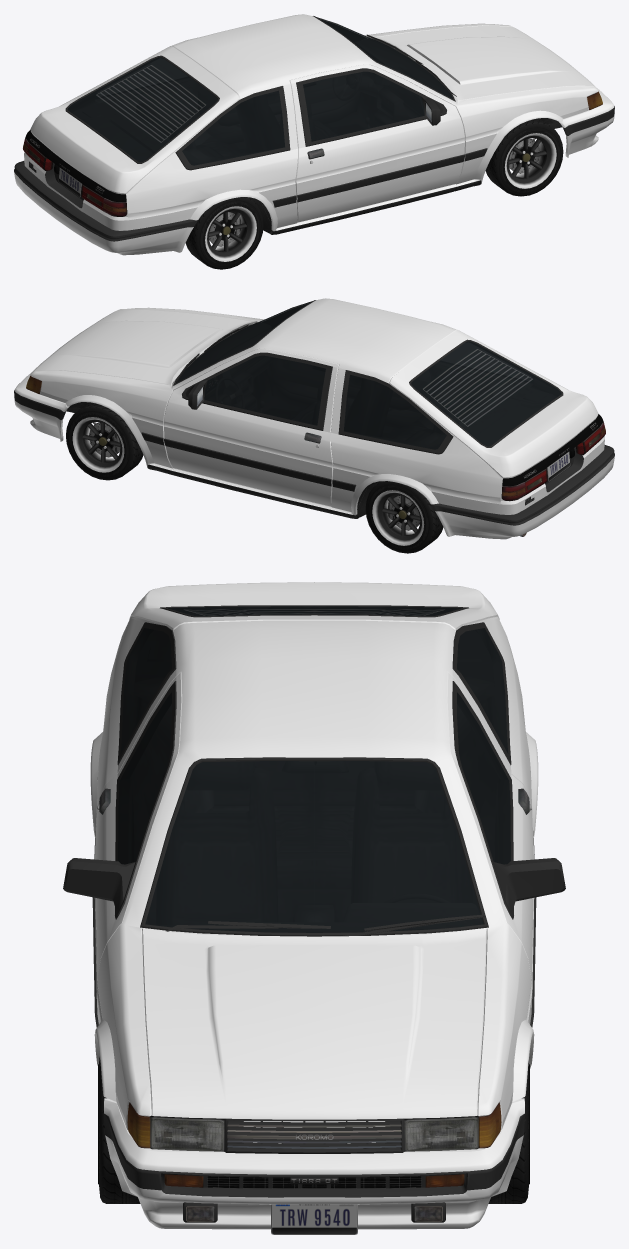
File: tiara_gt_83_tuned.glb
3 views of the same model, one above another, from view 1: azimuth 30°, elevation 25°; view 2: azimuth 150°, elevation 25°; view 3: azimuth 270°, elevation 25° (orthographic). The views are drawn at different scales.
Visible parts, largest first — view 1: TiaraGT83_Body_TiaraGT83_Bodymat_0, TiaraGT83_Interior_UCB_Interiors_2_0, TiaraGT83_Hood_TiaraGT83_Bodymat_0, TiaraGT83_Bottom_UCB_BOTTOM_0, TiaraGT83_Trunkdoor_Glass_UCB_Lights_and_Glass_Transperent_0, TiaraGT83_Trunkdoor_TiaraGT83_Bodymat_0, TiaraGT83_Glass_UCB_Lights_and_Glass_Transperent_0, TiaraGT83_Glass_Passenger_UCB_Lights_and_Glass_Transperent_0, TiaraGT83_WheelTuner_FR_RB1c_Tire_1k_0, TiaraGT83_WheelTuner_RR_RB1c_Tire_1k_0, TiaraGT83_Bumper_rear_TrimB_Shell_TiaraGT83_Bodymat_0, TiaraGT83_Bumper_rear_TrimB_UCB_BOTTOM_0 (+6 smaller); view 2: TiaraGT83_Body_TiaraGT83_Bodymat_0, TiaraGT83_Interior_UCB_Interiors_2_0, TiaraGT83_Hood_TiaraGT83_Bodymat_0, TiaraGT83_Bottom_UCB_BOTTOM_0, TiaraGT83_Trunkdoor_Glass_UCB_Lights_and_Glass_Transperent_0, TiaraGT83_Trunkdoor_TiaraGT83_Bodymat_0, TiaraGT83_Glass_UCB_Lights_and_Glass_Transperent_0, TiaraGT83_Glass_Driver_UCB_Lights_and_Glass_Transperent_0, TiaraGT83_WheelTuner_FL_RB1c_Tire_1k_0, TiaraGT83_WheelTuner_RL_RB1c_Tire_1k_0, TiaraGT83_Bumper_rear_TrimB_Shell_TiaraGT83_Bodymat_0, TiaraGT83_Bumper_rear_TrimB_UCB_BOTTOM_0 (+6 smaller); view 3: TiaraGT83_Body_TiaraGT83_Bodymat_0, TiaraGT83_Interior_UCB_Interiors_2_0, TiaraGT83_Hood_TiaraGT83_Bodymat_0, TiaraGT83_Windshield_UCB_Lights_and_Glass_Transperent_0, TiaraGT83_Bottom_UCB_BOTTOM_0, TiaraGT83_Bumper_FrontB_TiaraGT83_Bodymat_0, TiaraGT83_Trunkdoor_TiaraGT83_Bodymat_0, TiaraGT83_Bumper_FrontB_inner_UCB_BOTTOM_0, TiaraGT83_Glass_UCB_Lights_and_Glass_Transperent_0, TiaraGT83_Headlight_Glass_UCB_Lights_and_Glass_Transperent_0, TiaraGT83_Glass_Driver_UCB_Lights_and_Glass_Transperent_0, TiaraGT83_Glass_Passenger_UCB_Lights_and_Glass_Transperent_0 (+8 smaller).
Part boxes in pixels (<box>): TiaraGT83_Body_TiaraGT83_Bodymat_0: <box>24,14,598,231</box>; TiaraGT83_Interior_UCB_Interiors_2_0: <box>68,20,452,164</box>; TiaraGT83_Hood_TiaraGT83_Bodymat_0: <box>375,25,595,100</box>; TiaraGT83_Bottom_UCB_BOTTOM_0: <box>25,16,562,234</box>; TiaraGT83_Trunkdoor_Glass_UCB_Lights_and_Glass_Transperent_0: <box>67,57,217,162</box>; TiaraGT83_Trunkdoor_TiaraGT83_Bodymat_0: <box>30,46,239,194</box>; TiaraGT83_Glass_UCB_Lights_and_Glass_Transperent_0: <box>95,58,284,165</box>; TiaraGT83_Glass_Passenger_UCB_Lights_and_Glass_Transperent_0: <box>303,71,424,141</box>; TiaraGT83_WheelTuner_FR_RB1c_Tire_1k_0: <box>485,118,563,196</box>; TiaraGT83_WheelTuner_RR_RB1c_Tire_1k_0: <box>185,197,263,269</box>; TiaraGT83_Bumper_rear_TrimB_Shell_TiaraGT83_Bodymat_0: <box>14,172,193,255</box>; TiaraGT83_Bumper_rear_TrimB_UCB_BOTTOM_0: <box>14,161,197,241</box>; TiaraGT83_Body_TiaraGT83_Bodymat_0: <box>30,298,604,515</box>; TiaraGT83_Interior_UCB_Interiors_2_0: <box>176,304,560,448</box>; TiaraGT83_Hood_TiaraGT83_Bodymat_0: <box>33,309,256,384</box>; TiaraGT83_Bottom_UCB_BOTTOM_0: <box>66,300,603,536</box>; TiaraGT83_Trunkdoor_Glass_UCB_Lights_and_Glass_Transperent_0: <box>411,341,561,446</box>; TiaraGT83_Trunkdoor_TiaraGT83_Bodymat_0: <box>389,330,598,478</box>; TiaraGT83_Glass_UCB_Lights_and_Glass_Transperent_0: <box>344,343,533,449</box>; TiaraGT83_Glass_Driver_UCB_Lights_and_Glass_Transperent_0: <box>204,355,325,425</box>; TiaraGT83_WheelTuner_FL_RB1c_Tire_1k_0: <box>66,402,143,480</box>; TiaraGT83_WheelTuner_RL_RB1c_Tire_1k_0: <box>365,481,443,553</box>; TiaraGT83_Bumper_rear_TrimB_Shell_TiaraGT83_Bodymat_0: <box>435,456,614,539</box>; TiaraGT83_Bumper_rear_TrimB_UCB_BOTTOM_0: <box>431,445,614,525</box>; TiaraGT83_Body_TiaraGT83_Bodymat_0: <box>90,616,538,1143</box>; TiaraGT83_Interior_UCB_Interiors_2_0: <box>118,612,510,932</box>; TiaraGT83_Hood_TiaraGT83_Bodymat_0: <box>142,928,486,1119</box>; TiaraGT83_Windshield_UCB_Lights_and_Glass_Transperent_0: <box>145,761,483,932</box>; TiaraGT83_Bottom_UCB_BOTTOM_0: <box>63,622,565,1153</box>; TiaraGT83_Bumper_FrontB_TiaraGT83_Bodymat_0: <box>104,1098,524,1229</box>; TiaraGT83_Trunkdoor_TiaraGT83_Bodymat_0: <box>129,582,499,630</box>; TiaraGT83_Bumper_FrontB_inner_UCB_BOTTOM_0: <box>104,1113,524,1222</box>; TiaraGT83_Glass_UCB_Lights_and_Glass_Transperent_0: <box>120,628,508,753</box>; TiaraGT83_Headlight_Glass_UCB_Lights_and_Glass_Transperent_0: <box>127,1102,501,1151</box>; TiaraGT83_Glass_Driver_UCB_Lights_and_Glass_Transperent_0: <box>457,692,510,864</box>; TiaraGT83_Glass_Passenger_UCB_Lights_and_Glass_Transperent_0: <box>118,692,171,864</box>.
Size of the model in its own units: 4.17 by 1.22 by 1.74.
8 materials, 7 textured.
